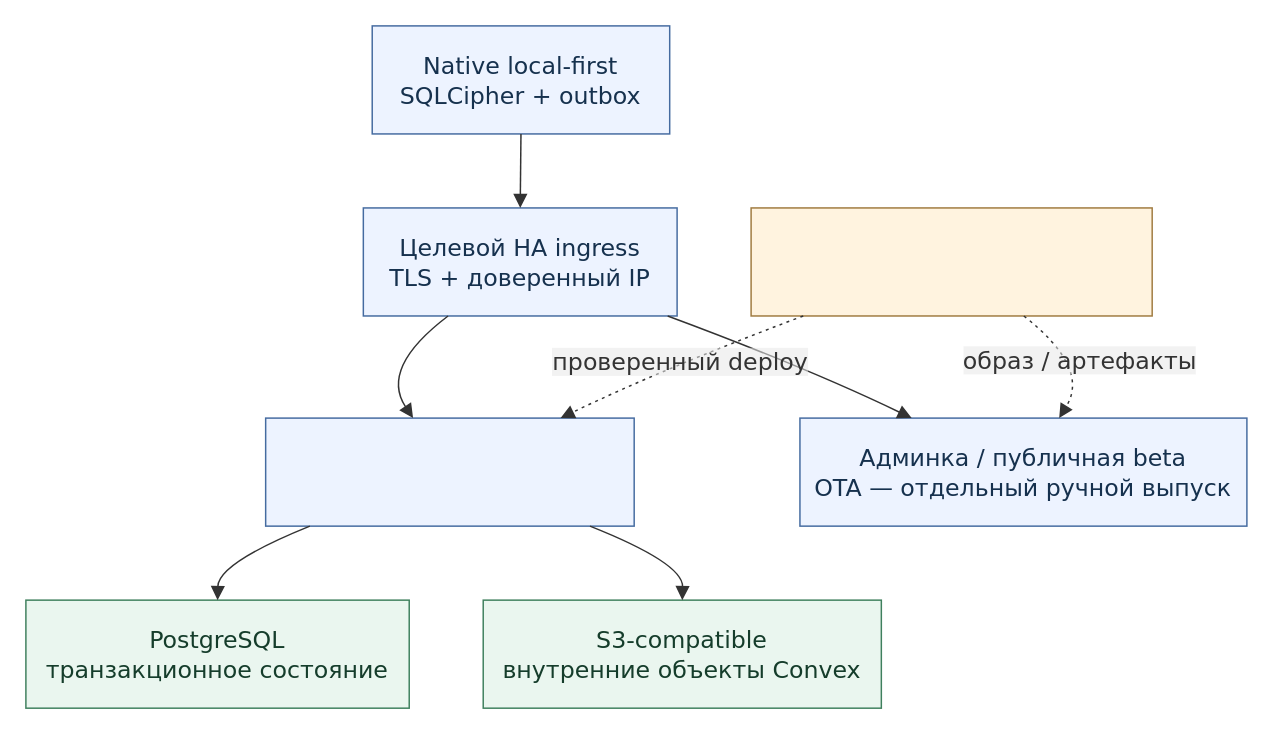
This 1273x734 diagram has some shape labels left out. The shapes that lost their labels are listed below. From the top down, each one's centre as x and y in pixels, then its label:
[951,261]: GitLab + protected Runner Registry + закрытые artifacts
[449,471]: Self-hosted Convex Auth · sync · AI · каталоги
